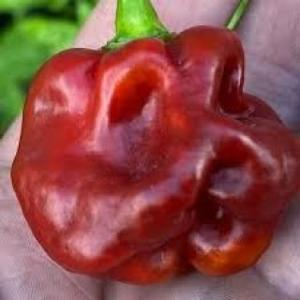bell_pepper: (10, 25, 296, 285)
